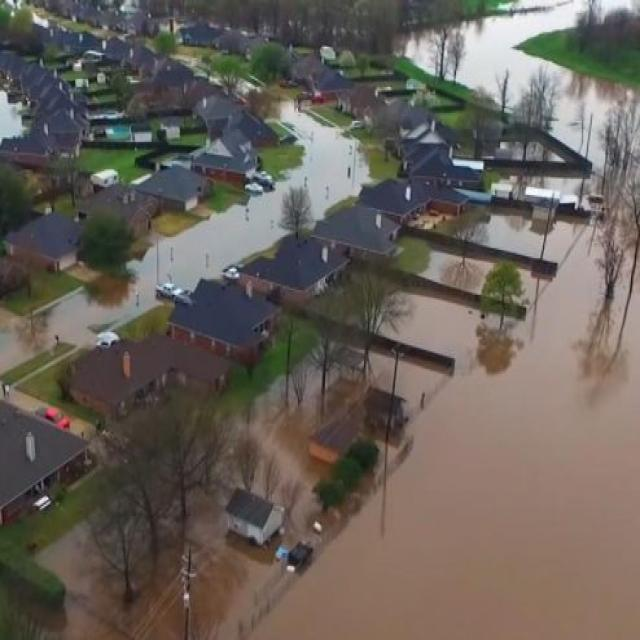flooded_areas: (48, 3, 609, 624)
